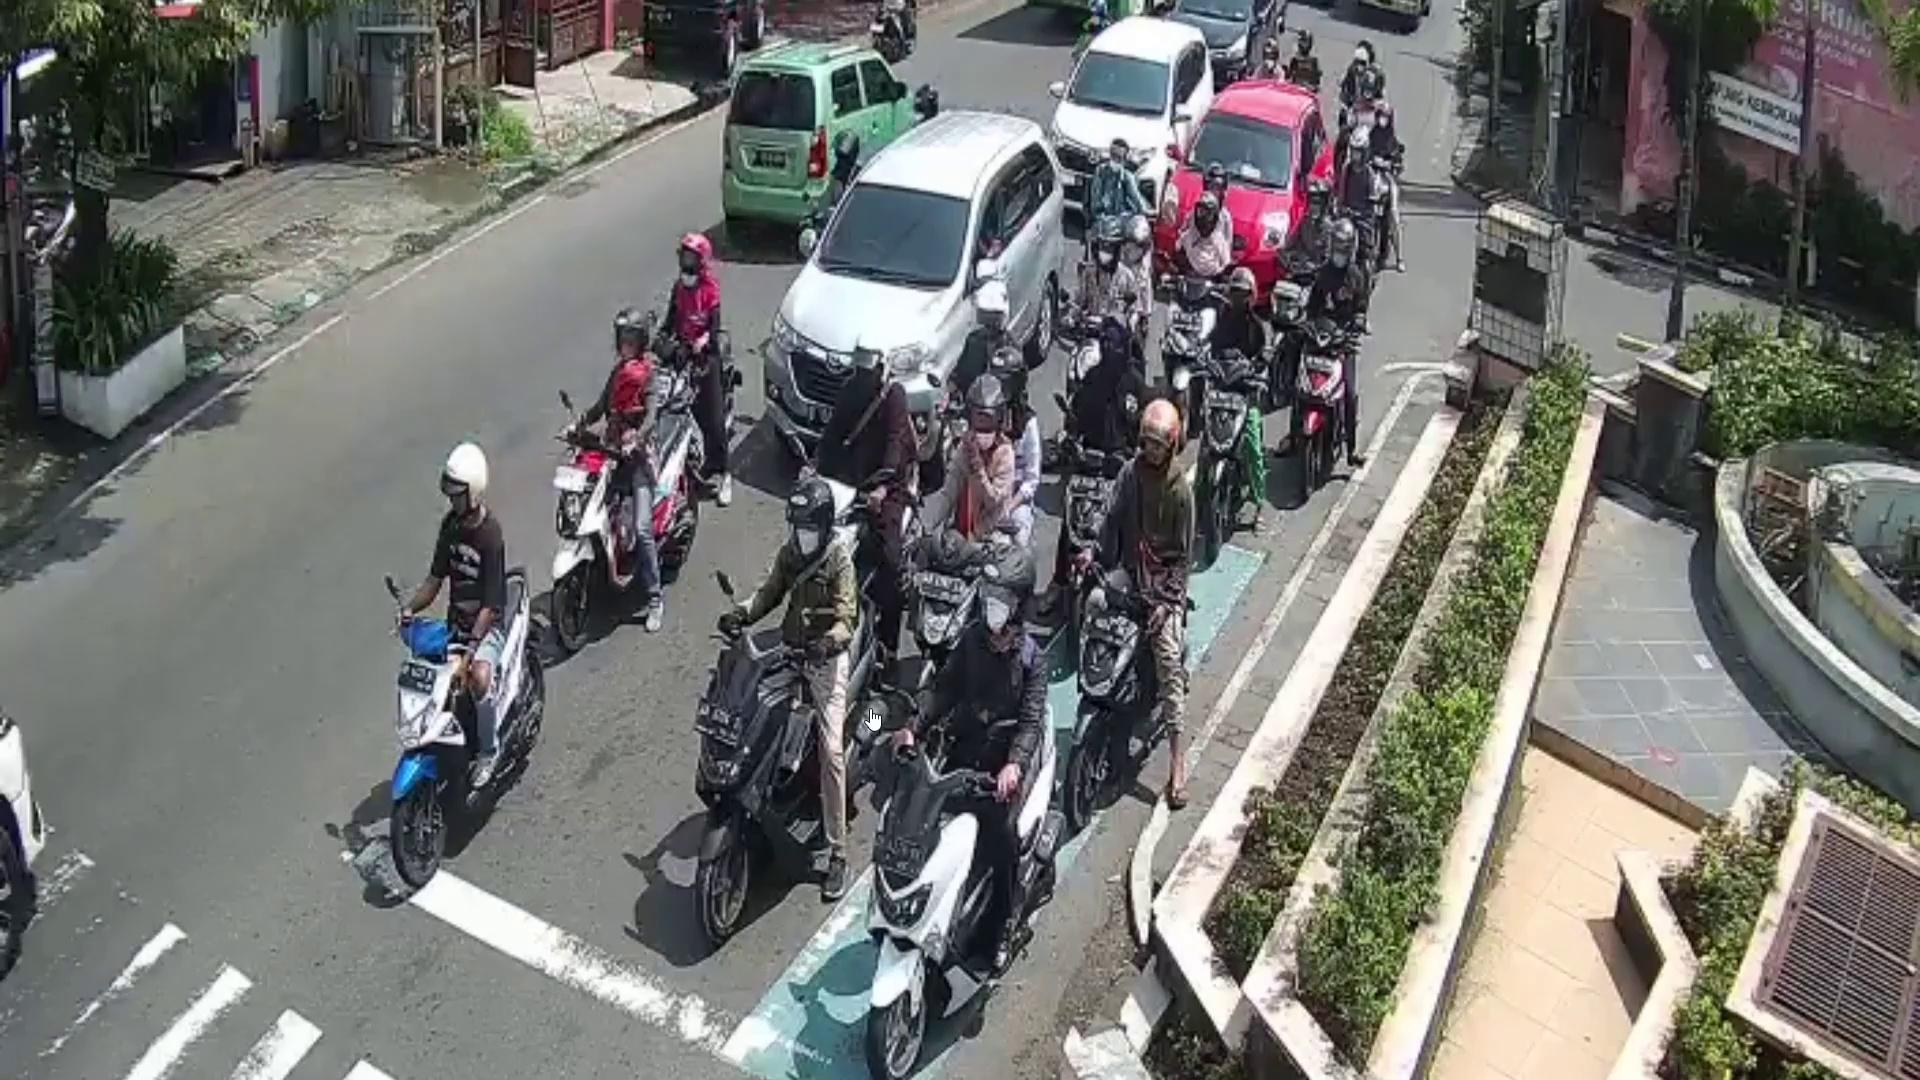car: (766, 107, 1068, 460), (1158, 78, 1338, 303), (723, 38, 919, 219), (1056, 13, 1217, 210), (1176, 0, 1292, 88)
motorbike: (868, 694, 1060, 1080), (699, 607, 885, 943), (389, 560, 546, 890), (545, 405, 692, 650), (1077, 579, 1195, 825), (1191, 359, 1254, 562), (1288, 322, 1352, 506)
